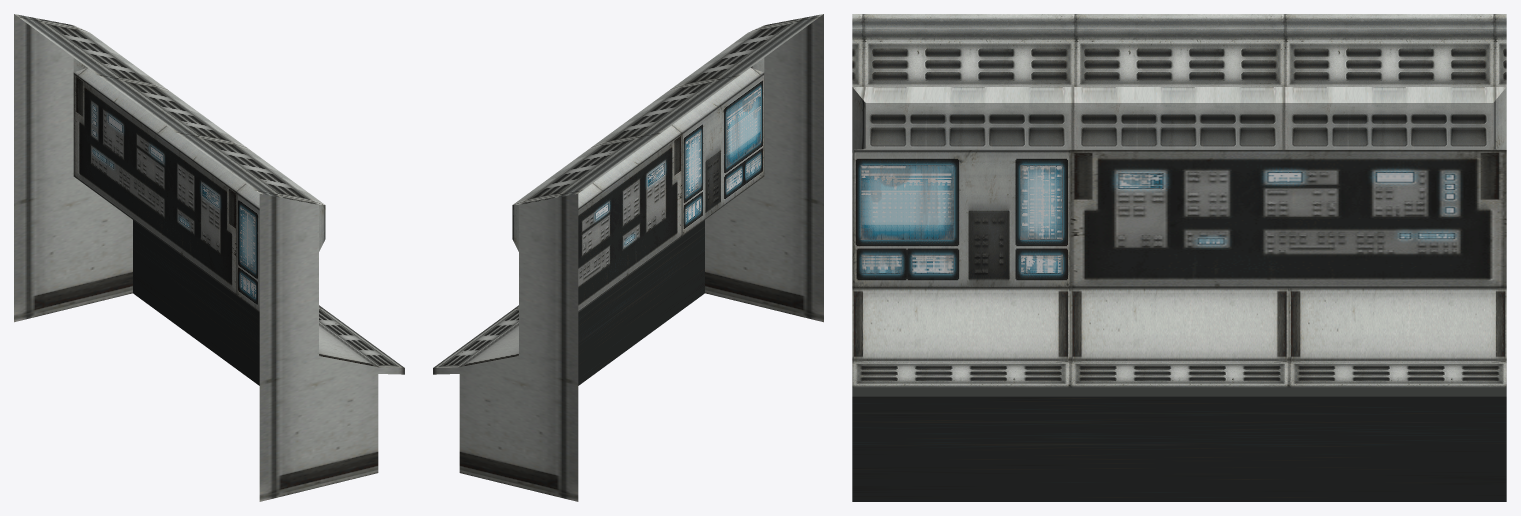
File: Control-Panel.fbx
The picture shows the model from 3 angles, left to right: view 1: azimuth 30°, elevation 25°; view 2: azimuth 150°, elevation 25°; view 3: azimuth 270°, elevation 25°; orthographic projection. The views are drawn at different scales.
Parts seen in each view (by area): view 1: Control-Panel; view 2: Control-Panel; view 3: Control-Panel.
Boxes of the visible parts, bbox=[...] form: Control-Panel: bbox=[14, 14, 404, 501]; Control-Panel: bbox=[433, 14, 823, 501]; Control-Panel: bbox=[852, 14, 1506, 501].
Size of the model in its own units: 426 by 864 by 1246.
1 material, 1 textured.
